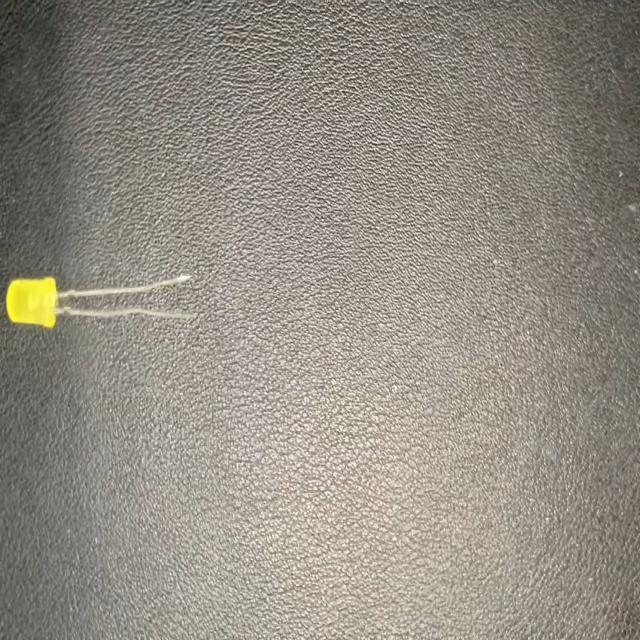LED: (6, 271, 198, 334)
